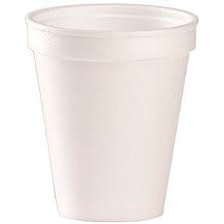paper_cup: (17, 0, 203, 224)
